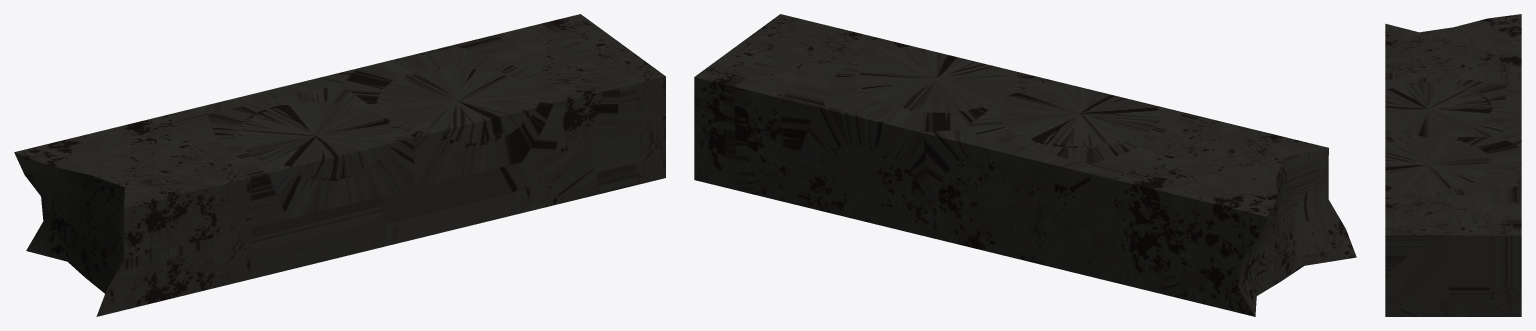
File: Pillar02.FBX
3 views of the same model, side by side, from view 1: azimuth 30°, elevation 25°; view 2: azimuth 150°, elevation 25°; view 3: azimuth 270°, elevation 25° (orthographic). The views are drawn at different scales.
Parts seen in each view (by area): view 1: Box018; view 2: Box018; view 3: Box018.
Boxes of the visible parts, x1=… form: Box018: x1=14, y1=14, x2=665, y2=316; Box018: x1=694, y1=14, x2=1356, y2=316; Box018: x1=1385, y1=14, x2=1521, y2=316.
Size of the model in its own units: 22205 by 3787 by 5757.
